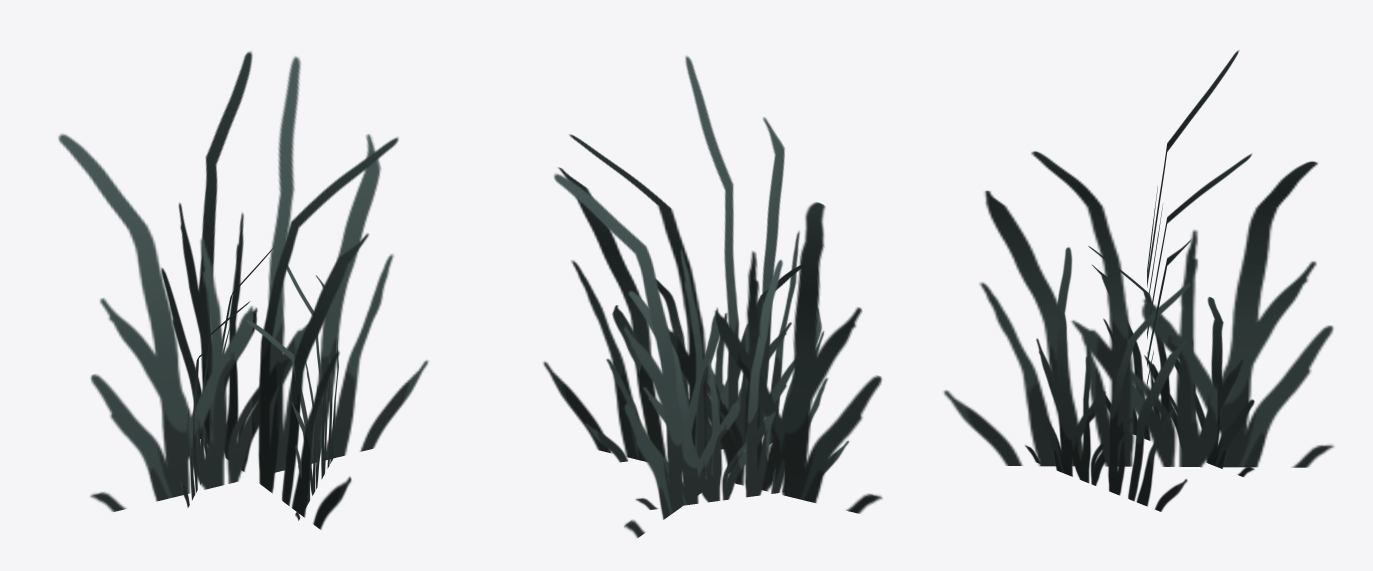
File: env_grass1_painty_01_v1.glb
The picture shows the model from 3 angles, left to right: view 1: azimuth 30°, elevation 25°; view 2: azimuth 150°, elevation 25°; view 3: azimuth 270°, elevation 25°; orthographic projection.
Parts seen in each view (by area): view 1: grass_plane.037; view 2: grass_plane.037; view 3: grass_plane.037.
Boxes of the visible parts, x1=… form: grass_plane.037: x1=58, y1=51, x2=428, y2=529; grass_plane.037: x1=543, y1=55, x2=882, y2=537; grass_plane.037: x1=943, y1=50, x2=1334, y2=511.
Bounding box in the file's own units: 1.02 × 0.9596 × 1.02.
Materials: 1 (1 with a texture image).
